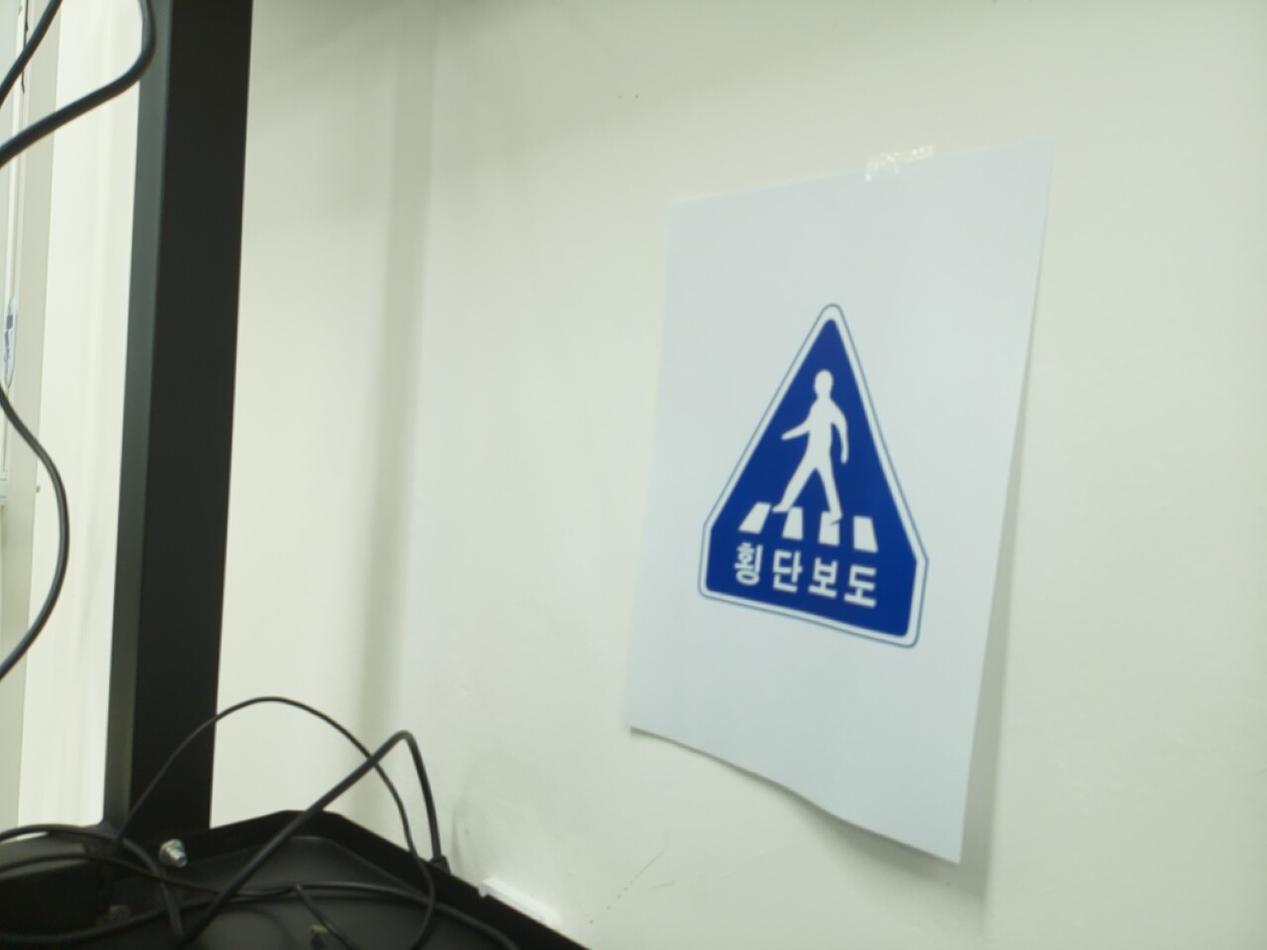crosswalk: (698, 310, 925, 647)
